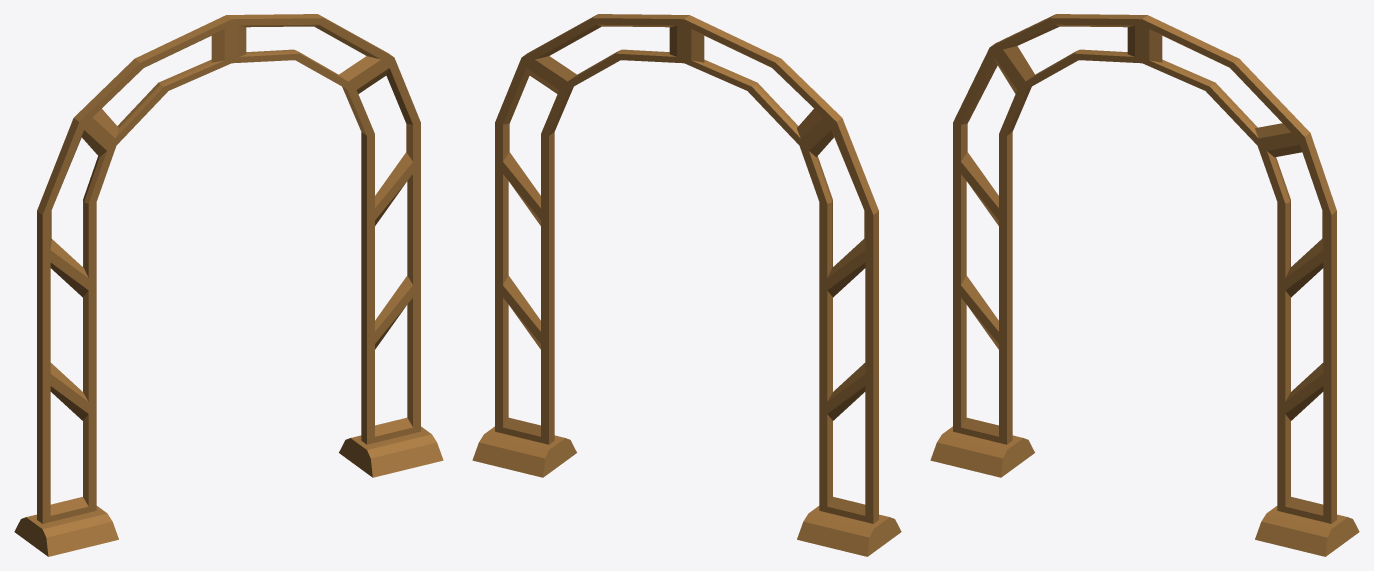
Rendered from wedding-arch-big.fbx.
3 renders of one model, left to right at view 1: azimuth 30°, elevation 25°; view 2: azimuth 150°, elevation 25°; view 3: azimuth 330°, elevation 25°, orthographic.
Parts seen in each view (by area): view 1: wedding-arch-big; view 2: wedding-arch-big; view 3: wedding-arch-big.
Boxes of the visible parts, <box> form: wedding-arch-big: <box>14,14,443,556</box>; wedding-arch-big: <box>472,14,901,556</box>; wedding-arch-big: <box>930,14,1359,556</box>.
Bounding box in the file's own units: 2.21 × 2.56 × 0.33.
